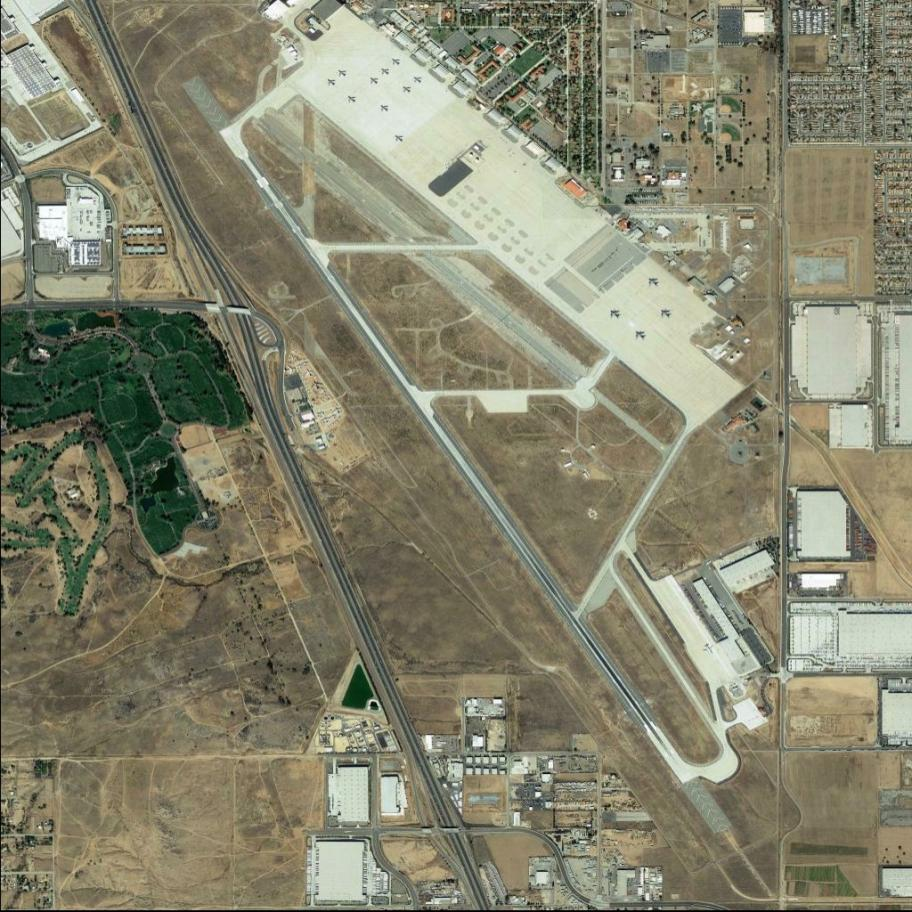plane: (631, 328, 650, 344), (701, 642, 718, 658), (646, 274, 662, 290), (607, 306, 623, 321), (657, 307, 672, 321), (392, 131, 406, 145), (379, 65, 392, 78), (308, 379, 322, 391), (346, 92, 358, 105), (378, 102, 391, 114), (390, 56, 403, 68), (335, 67, 347, 80), (325, 76, 338, 88), (411, 73, 423, 85), (369, 75, 380, 86), (305, 368, 314, 378), (403, 85, 411, 94)
